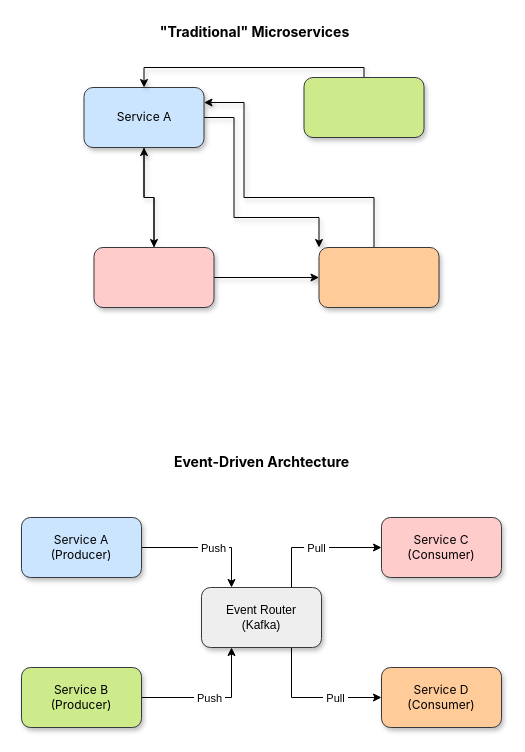
This 525x752 diagram has some shape labels left out. Each missing label, with the centre of its shape:
Service B: (x=364, y=108)
Service C: (x=154, y=278)
Service D: (x=379, y=278)
